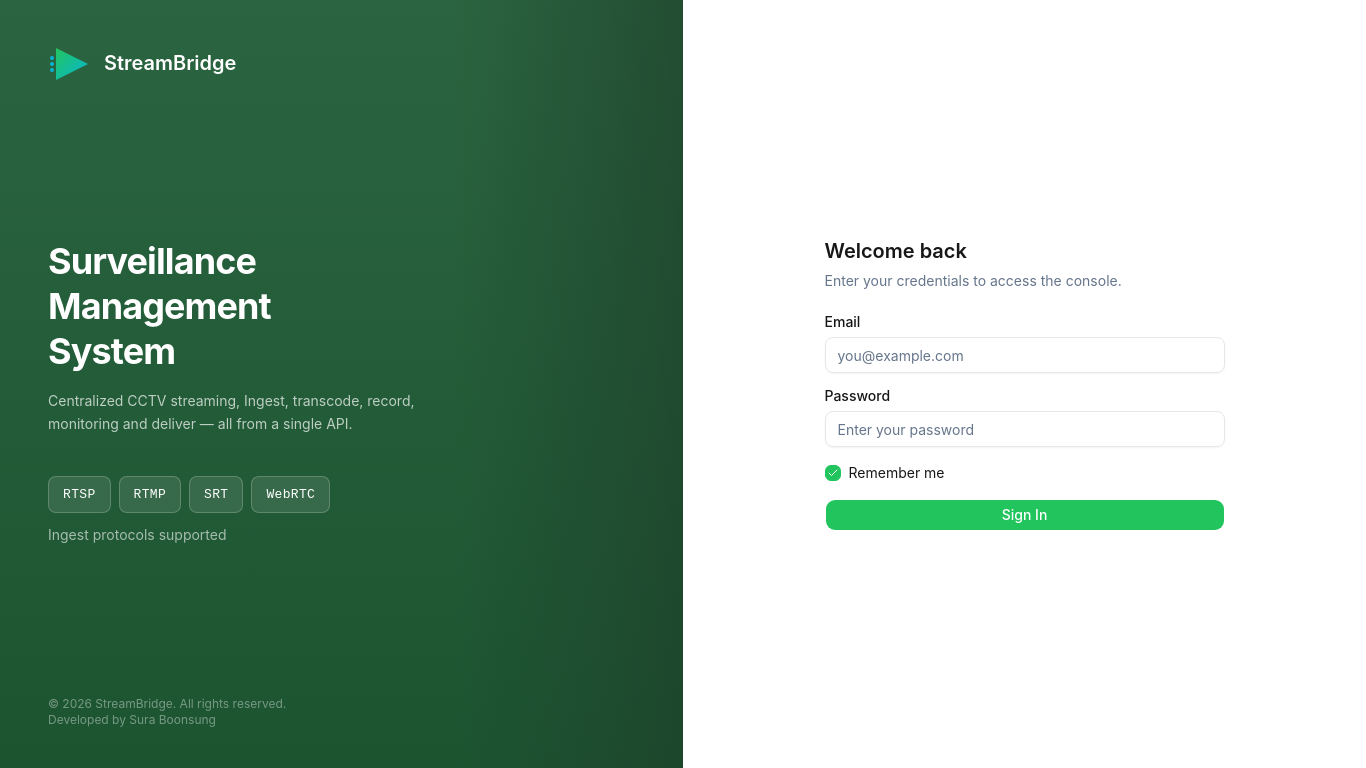
sign-in page — split-screen layout and remember me › disables inputs during loading
This screenshot has width=1366, height=768.
Type "user@test.com" into the field labelled "Email" at (1024, 355), box [824,337,1224,373]
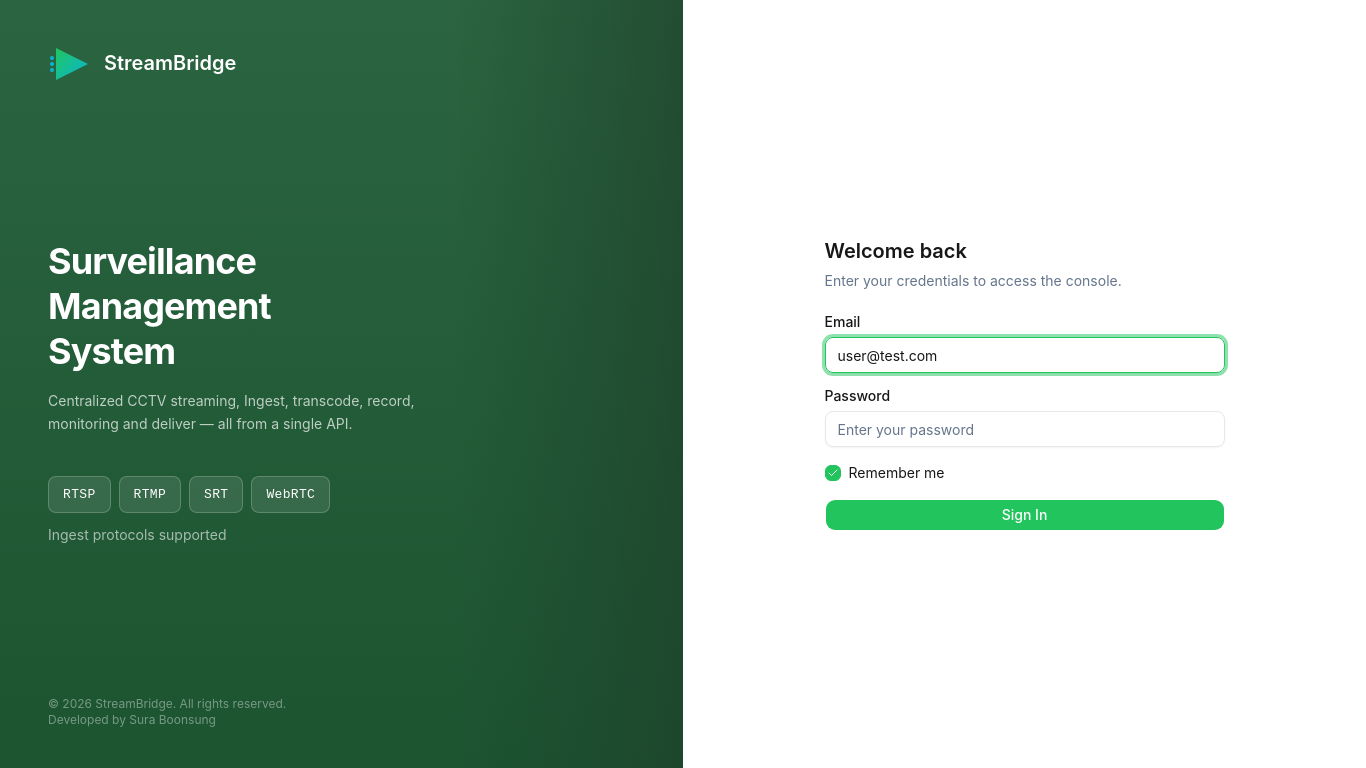
Type "password123" into the password field labelled "Password" at (1024, 429), box [824,411,1224,447]
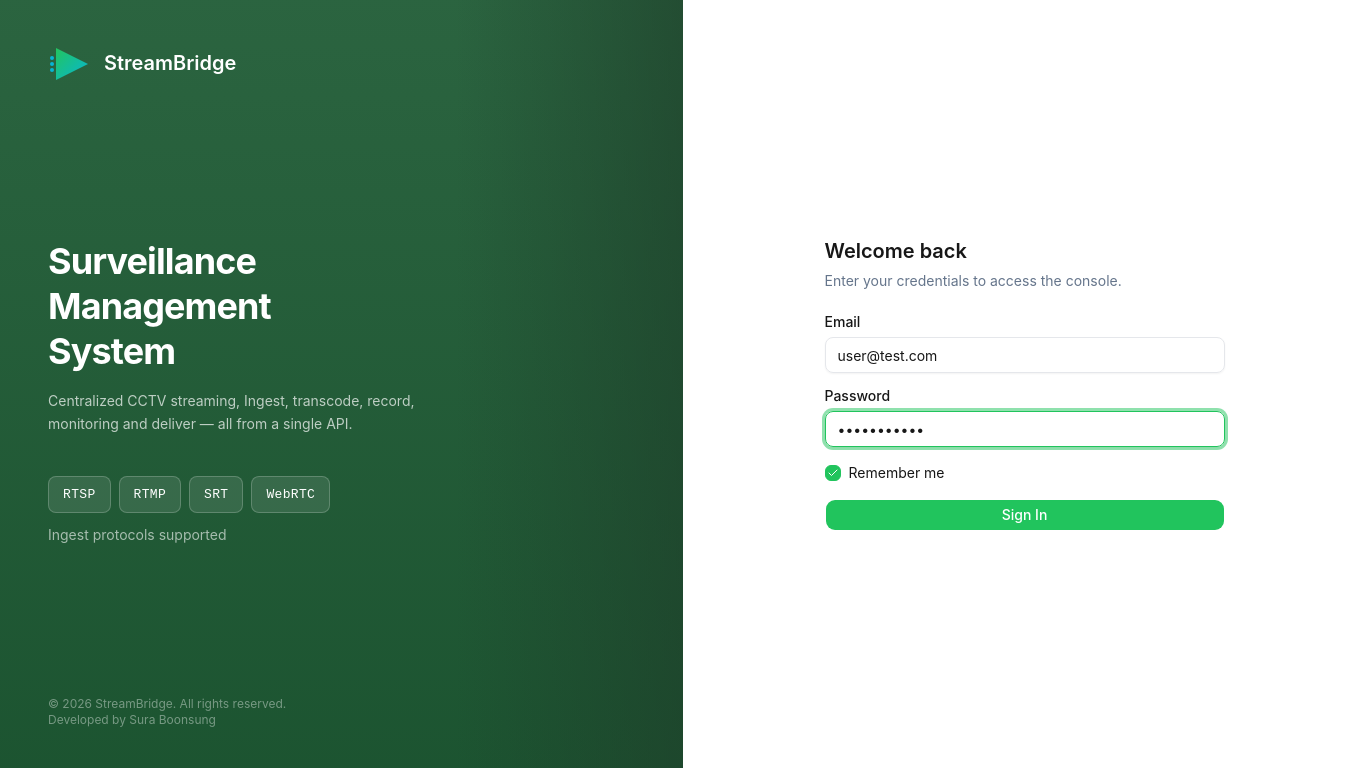
Click the button "Sign In" at (1024, 515), box [824,499,1224,531]
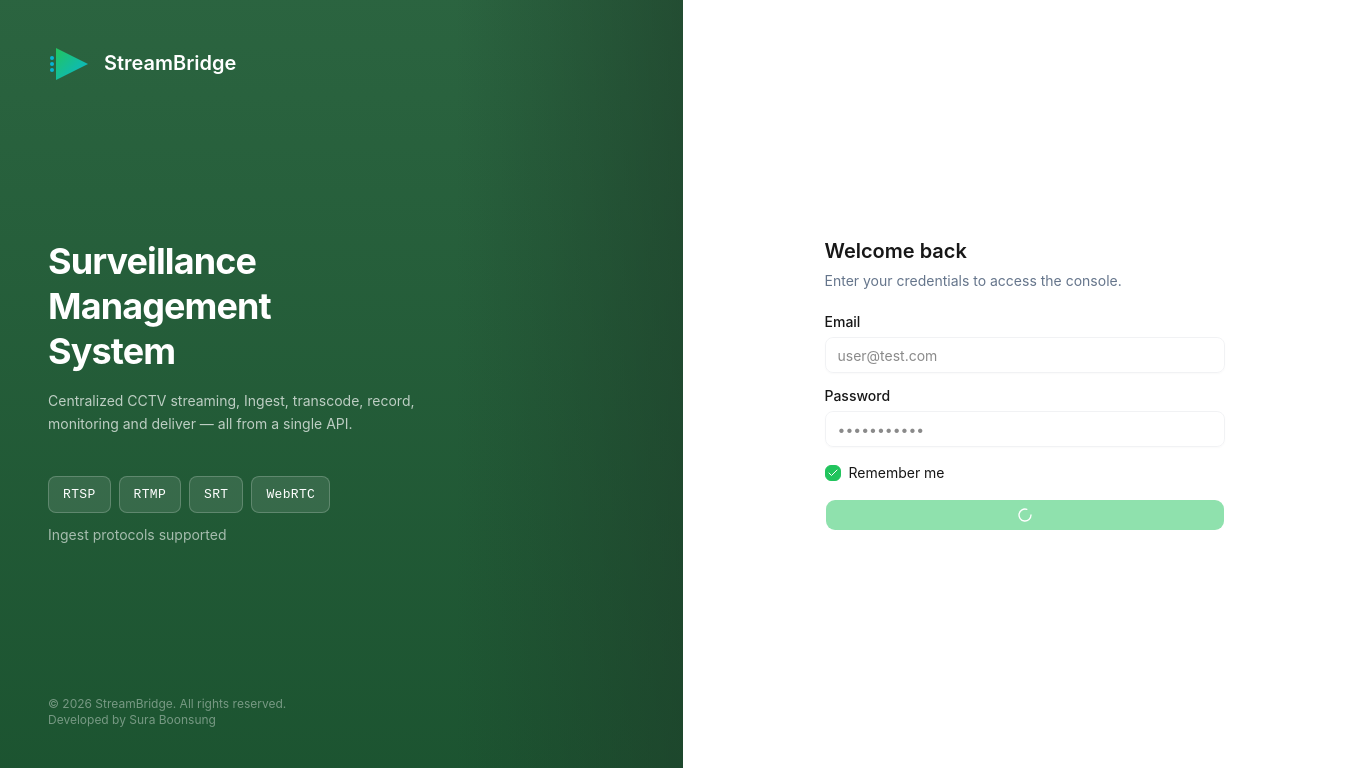
Expected: the field labelled "Email" is disabled, [824,337,1224,373]
Expected: the password field labelled "Password" is disabled, [824,411,1224,447]
